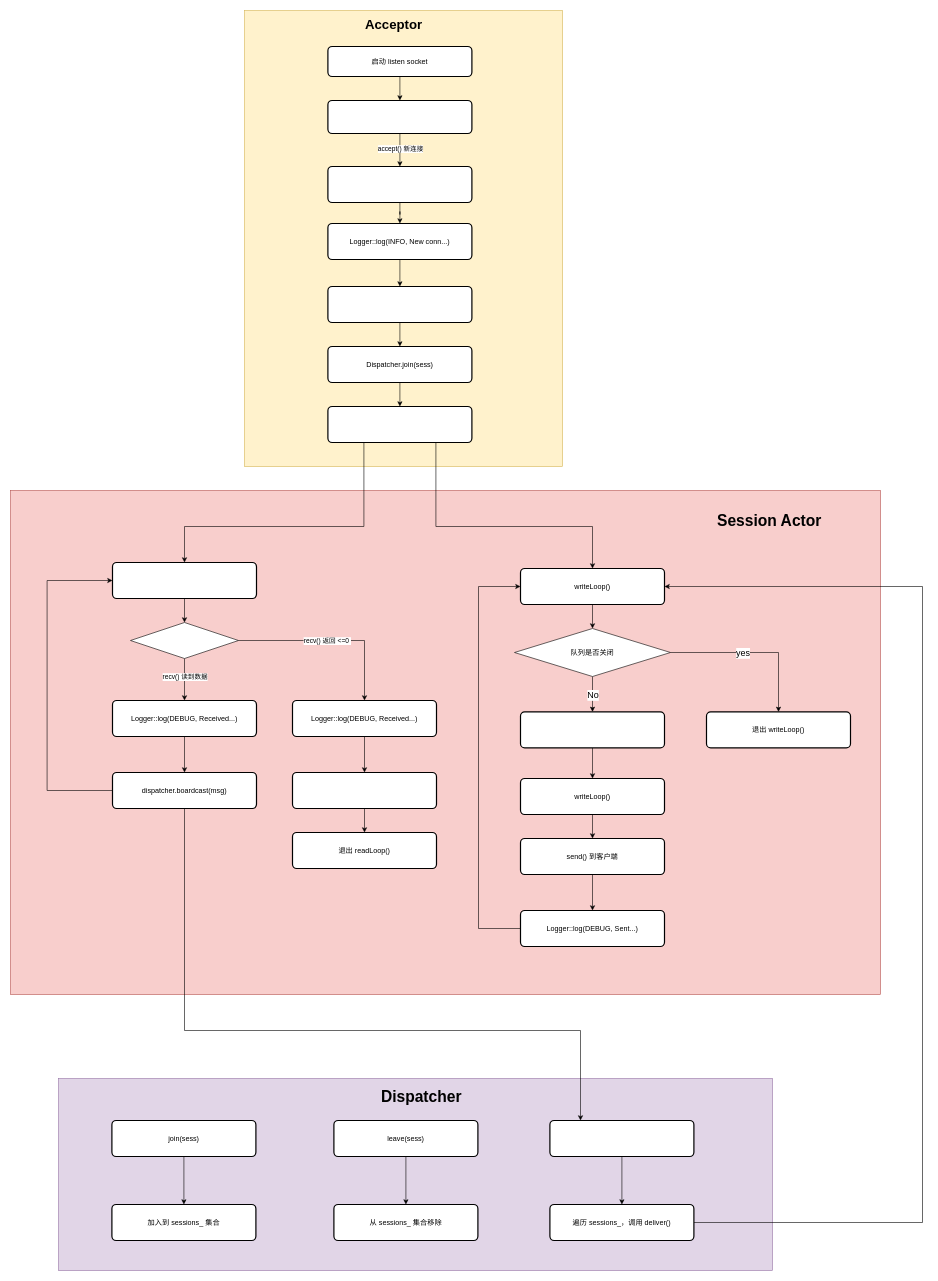
Image size: 938x1281. Some labels were removed from this diagram. The centre of each missing label's shape, as x and y in pixels:
"accept() 循环" goes at point 399,117.
"broadcast(msg)" goes at point 621,1138.
"dispatcher.leave(this)" goes at point 364,790.
"readLoop()" goes at point 184,580.
"recv()" goes at point 184,640.
"sess->start() 启动读写线程" goes at point 399,424.
"wait_and_pop(msg)" goes at point 592,729.
"创建 Session 对象" goes at point 399,304.
"获取客户端地址/端口" goes at point 399,184.
